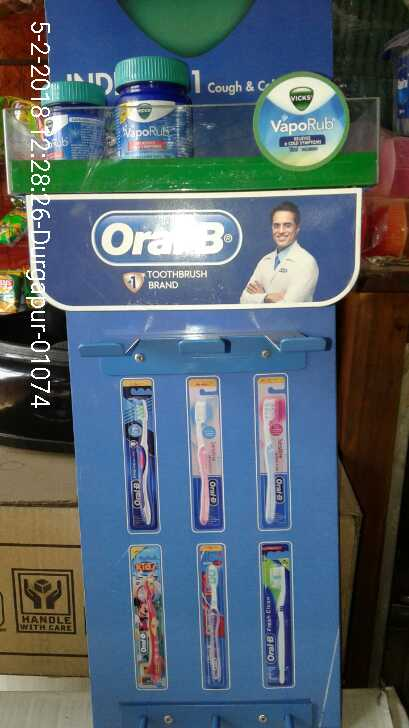vicks: (41, 46, 191, 174)
